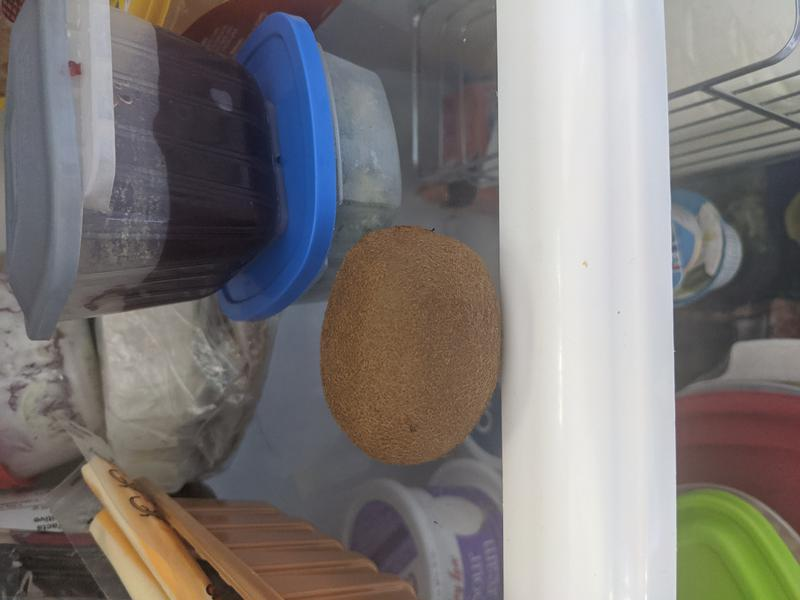kiwi: (320, 226, 502, 466)
